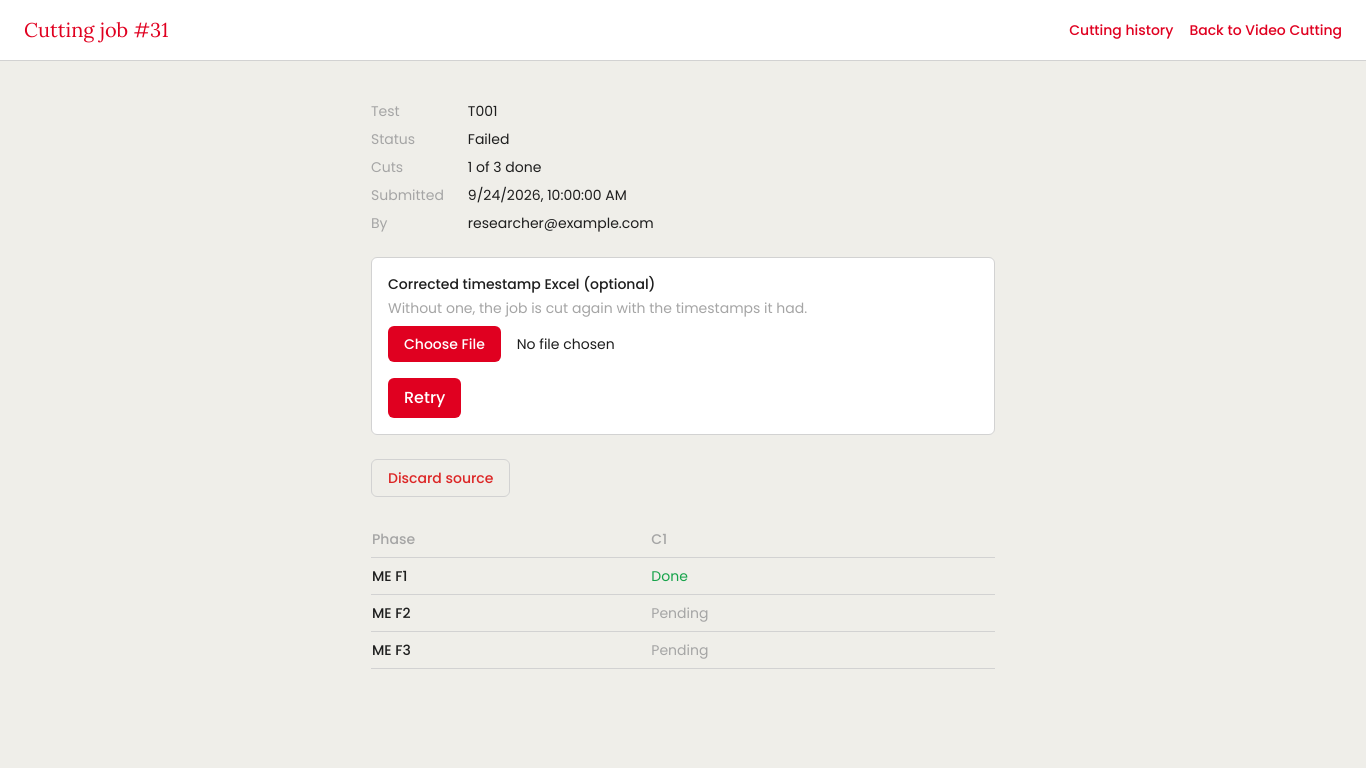
Test: CuttingJobView › keeps the source when Keep is chosen
This screenshot has width=1366, height=768.
Click the button with test id "discard-source". click: (441,478)
box: [371,459,510,497]
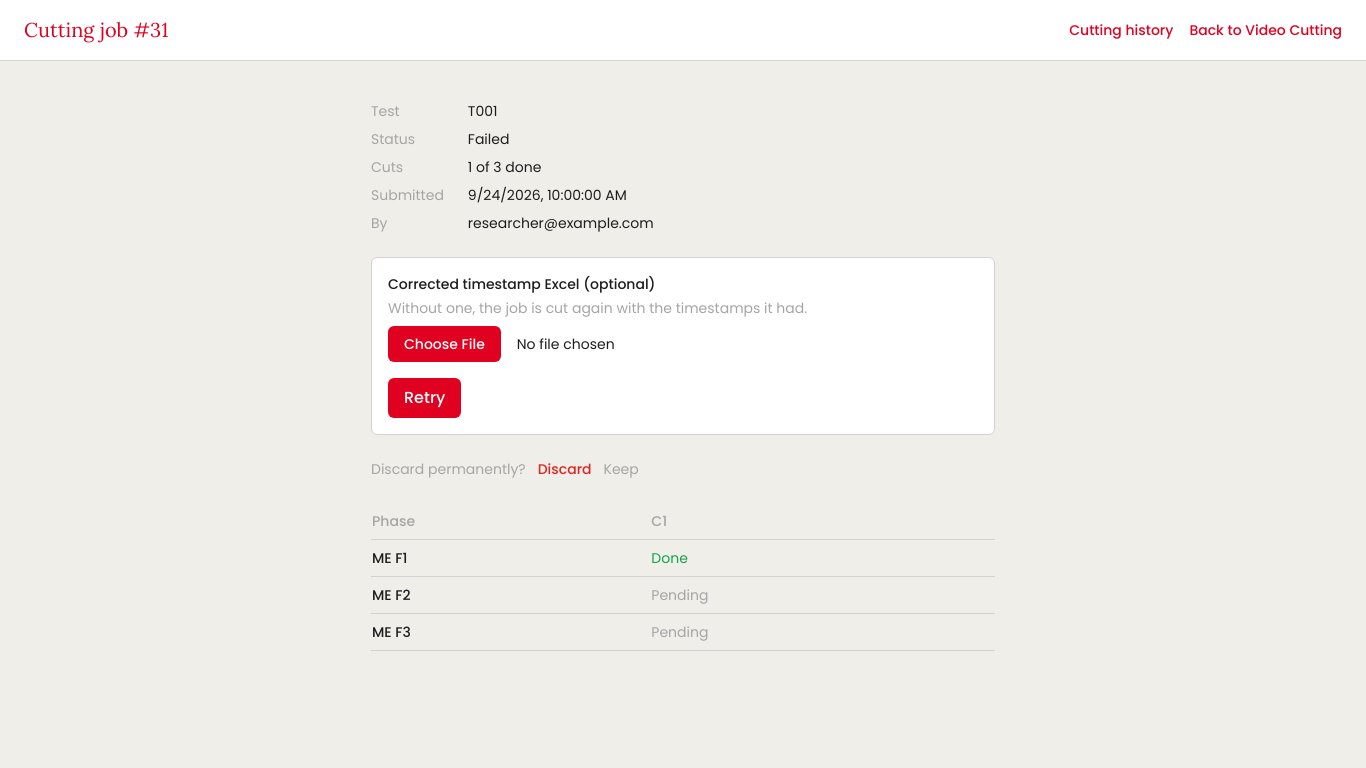
Click the button with test id "discard-source-keep". click: (621,469)
box: [604,459,639,479]
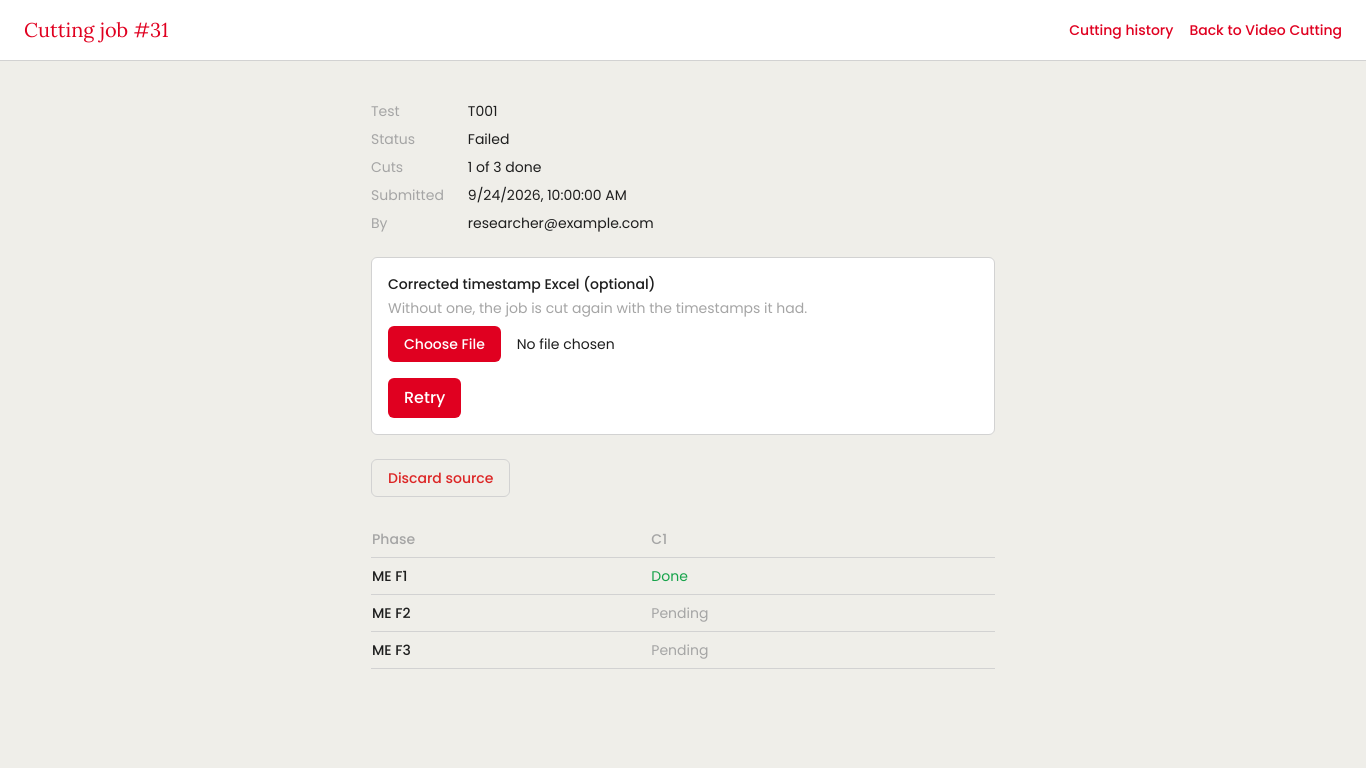
Expected: the text "Discard permanently?" is gone
Expected: the button with test id "discard-source" is shown, [371,459,510,497]
